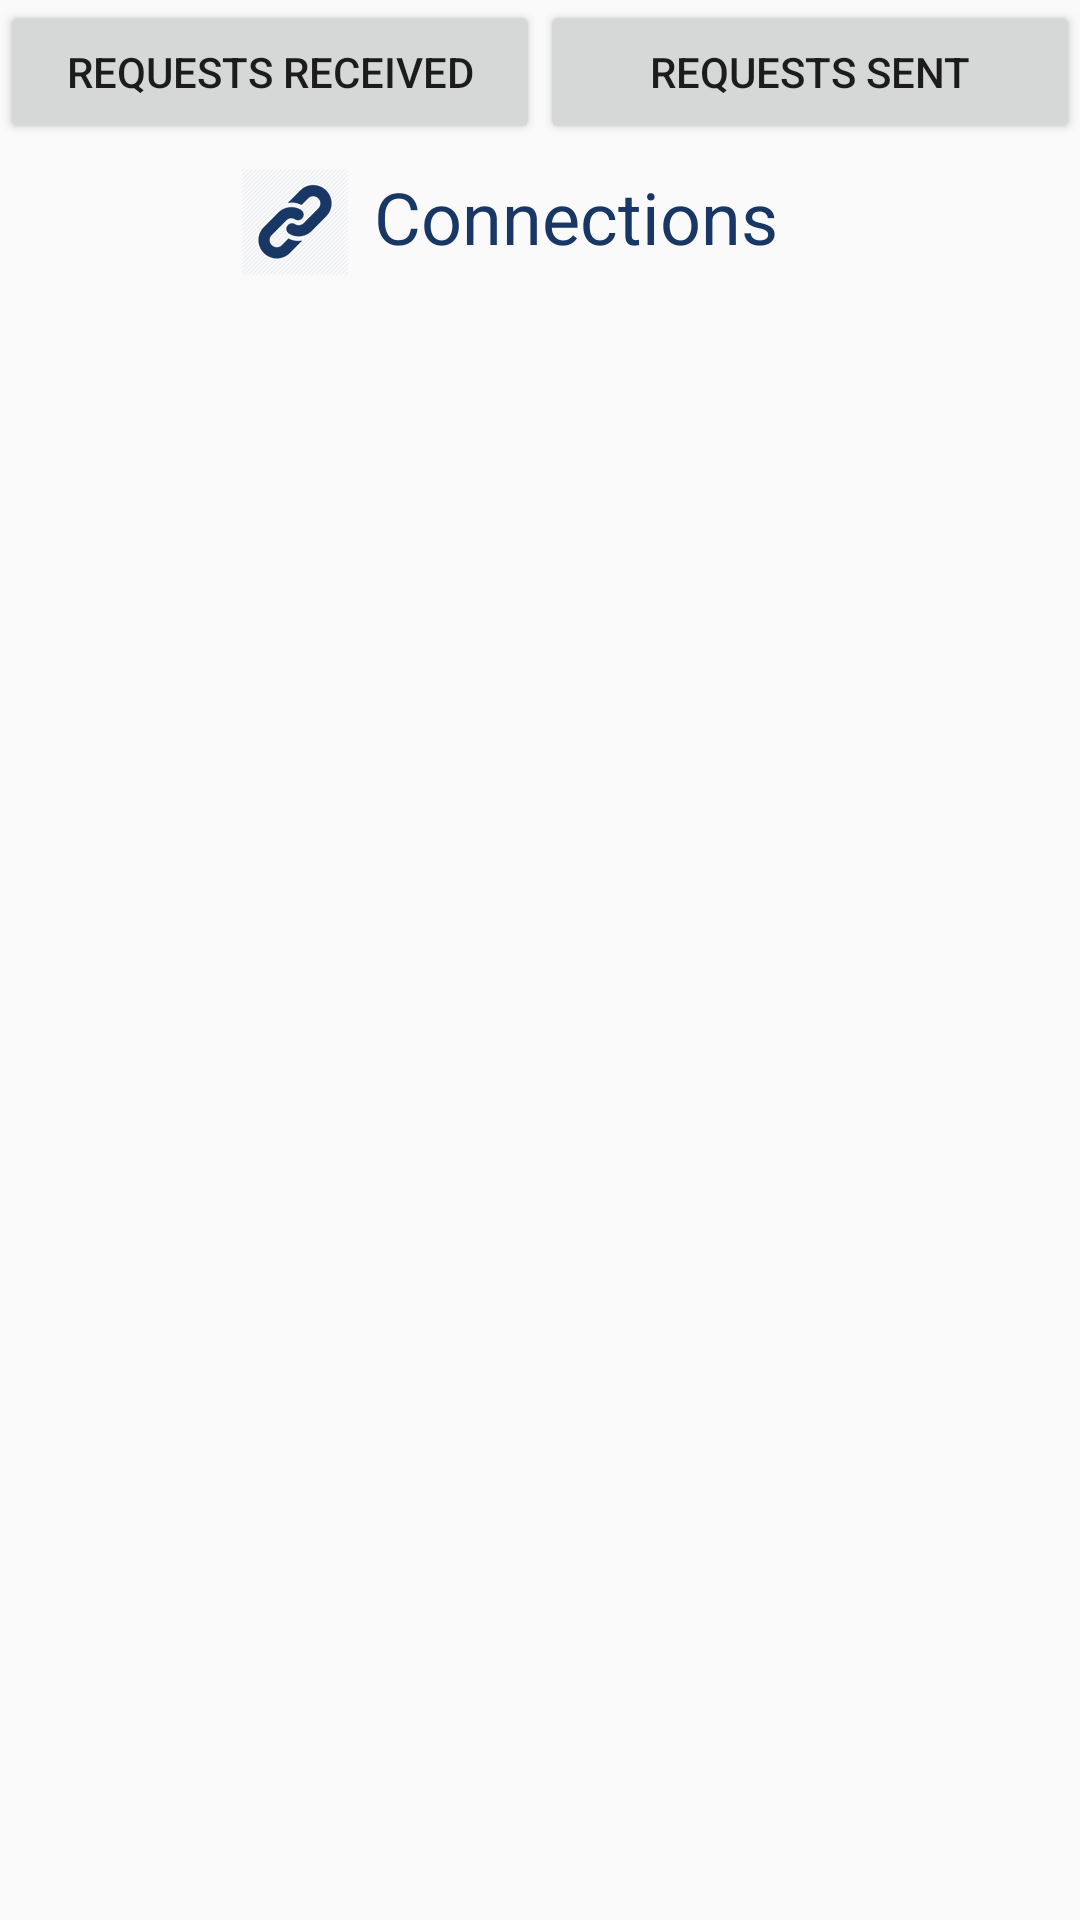

Icons on this 1080px×1920px Android screen, each with its box as (x1, y1, x2, y2):
link: (258, 185, 332, 259)
